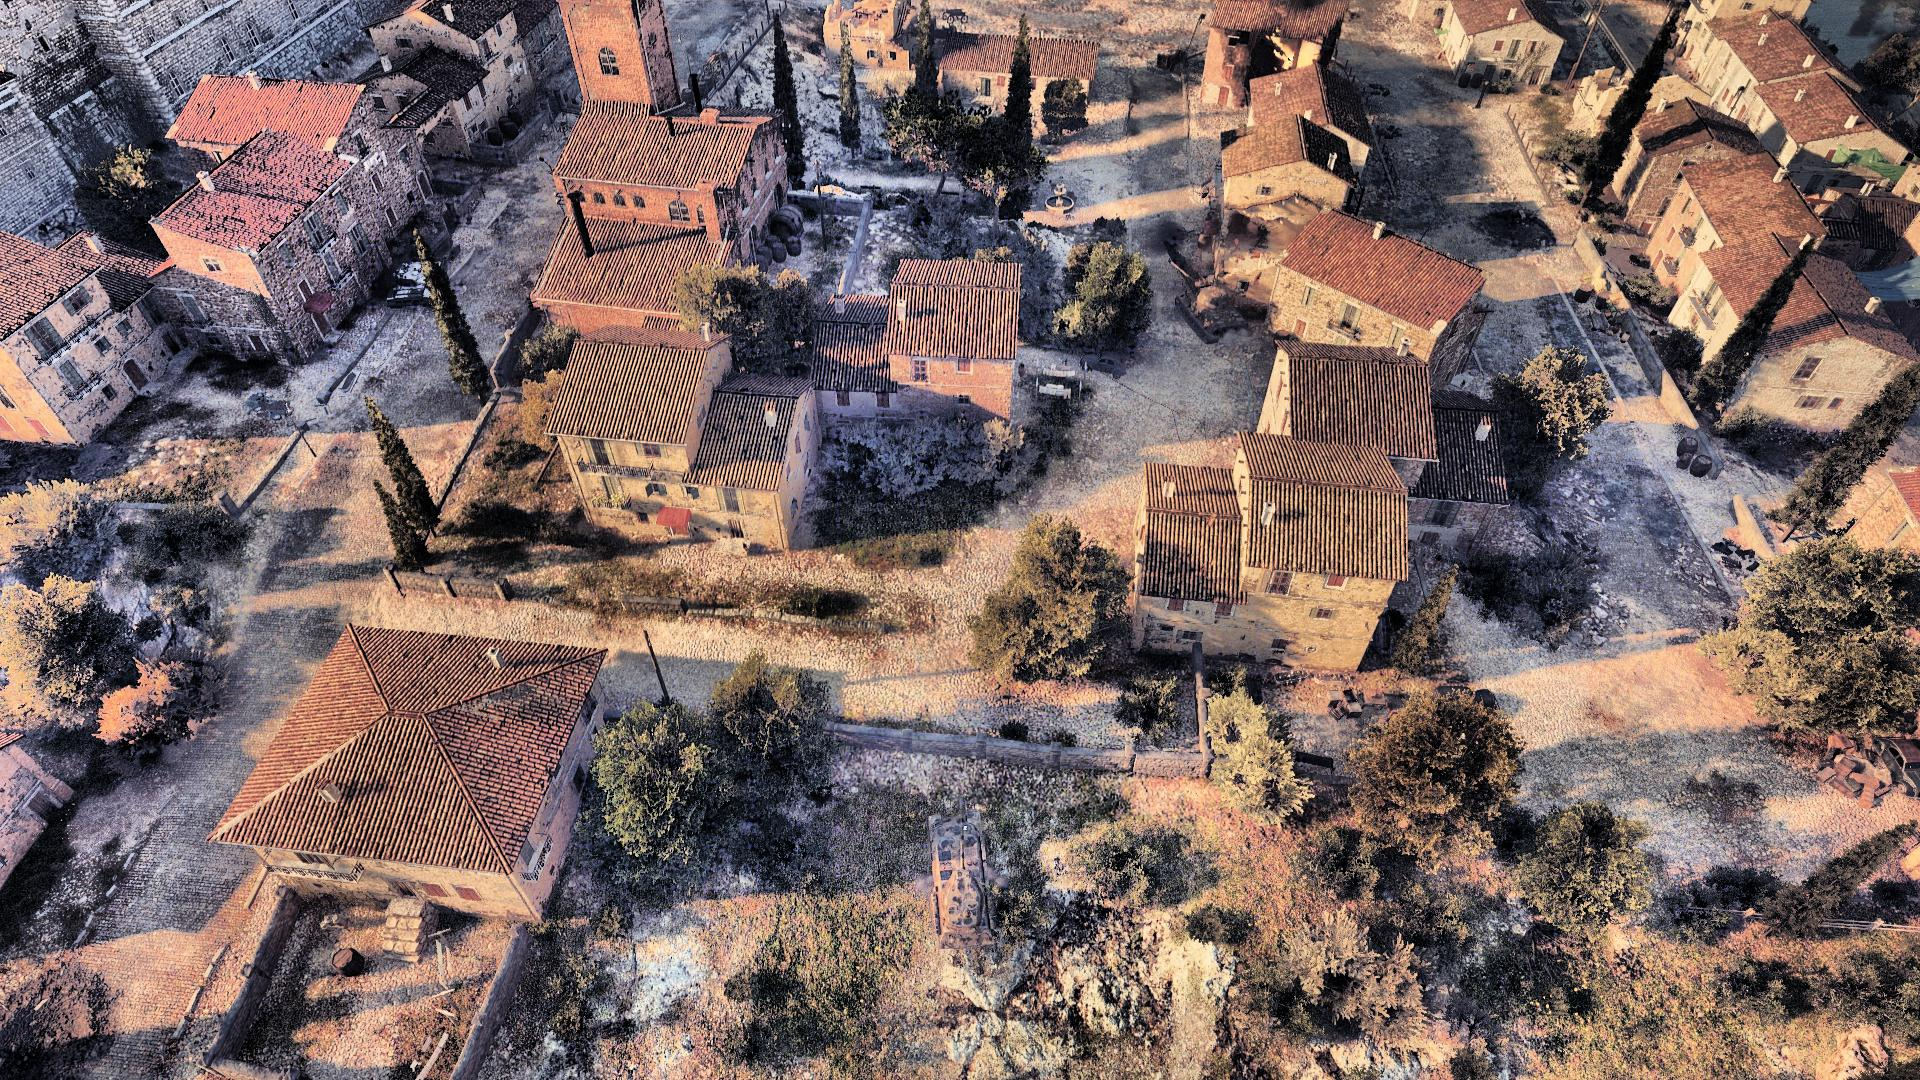military-vehicle: (927, 793, 996, 952), (1167, 257, 1251, 345)
